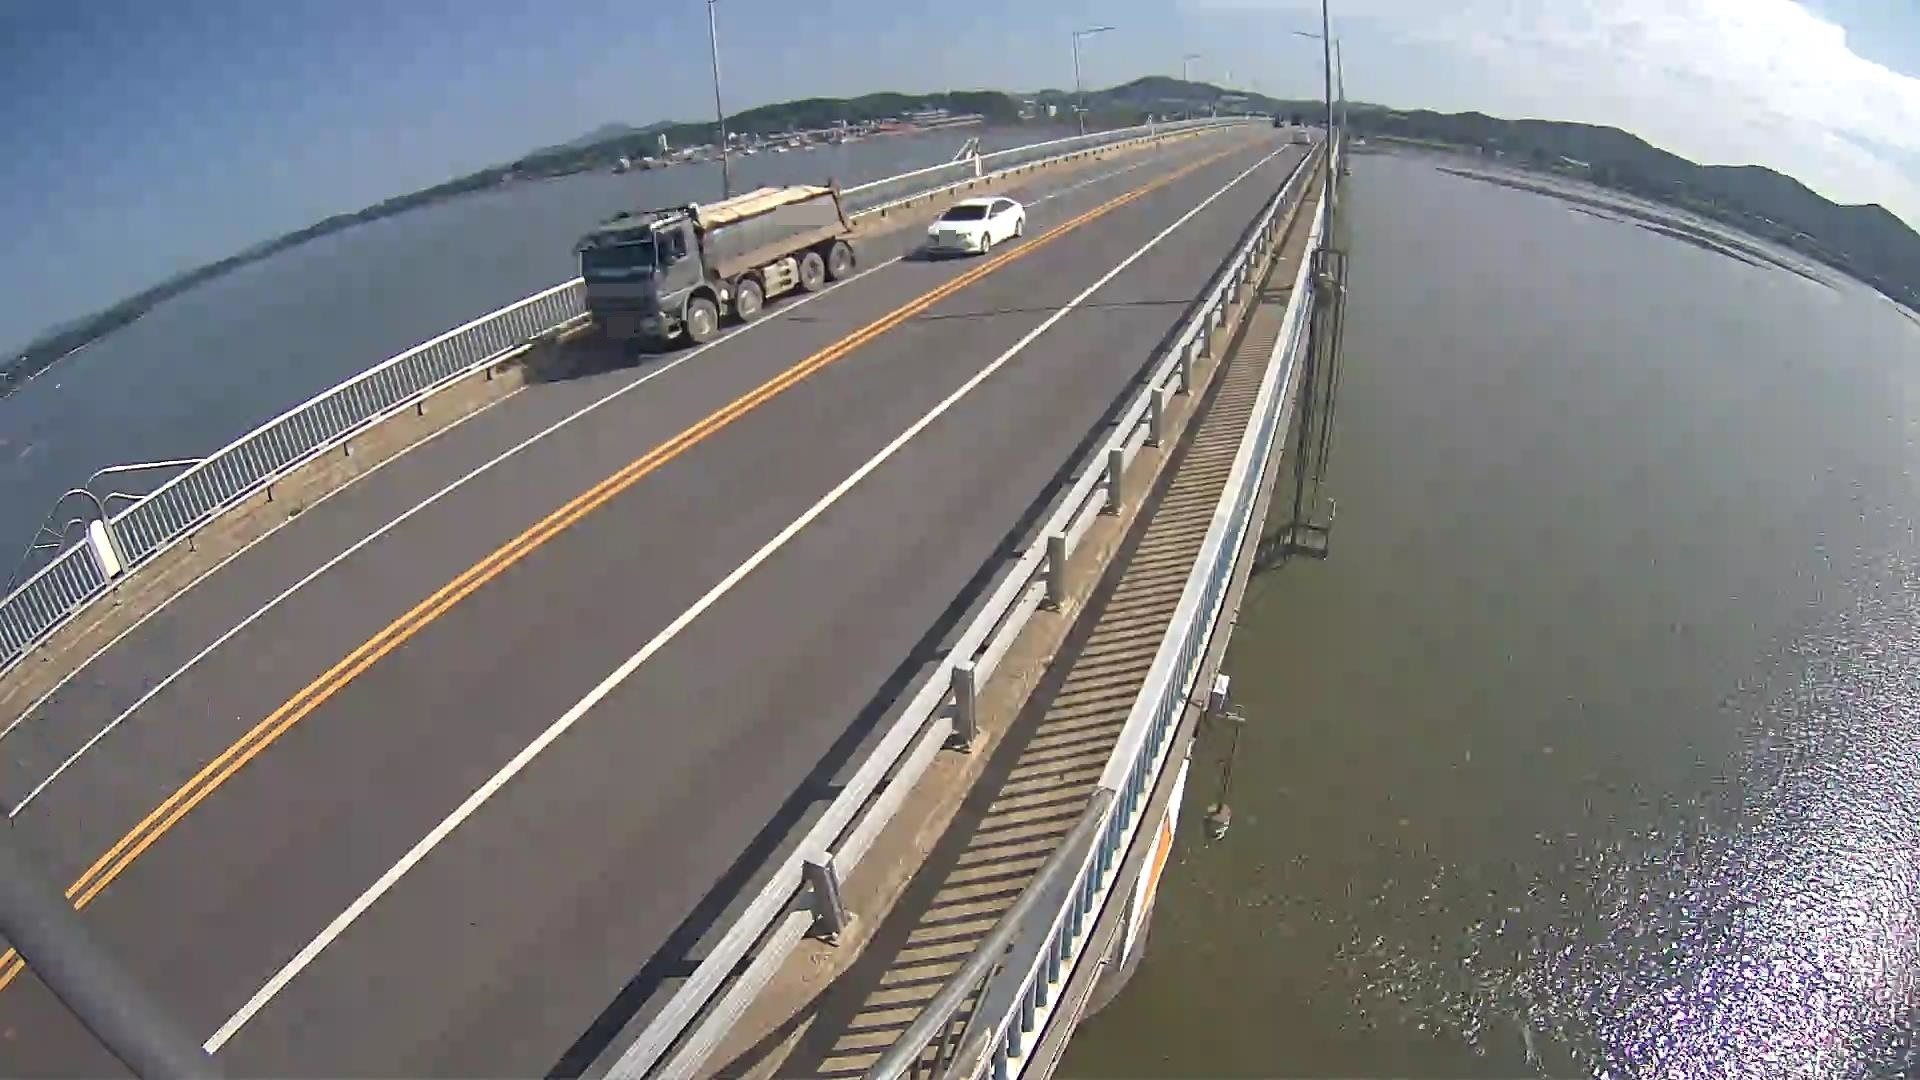정상차량: (571, 177, 856, 343)
